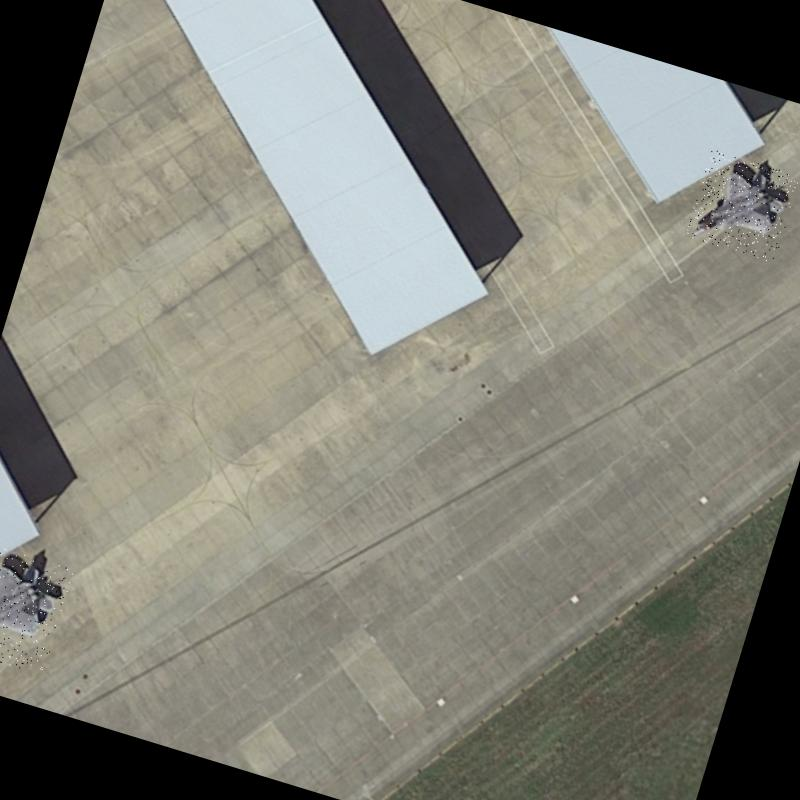A15: (685, 149, 800, 263), (0, 539, 75, 676)
